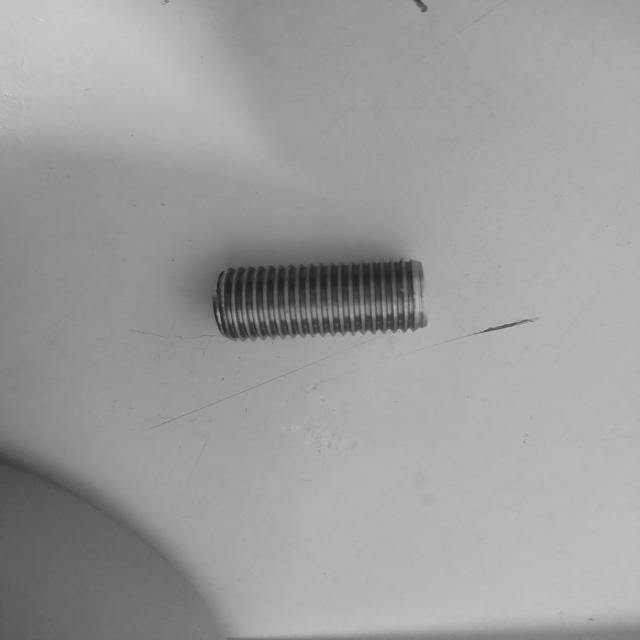Normal: (210, 256, 429, 342)
